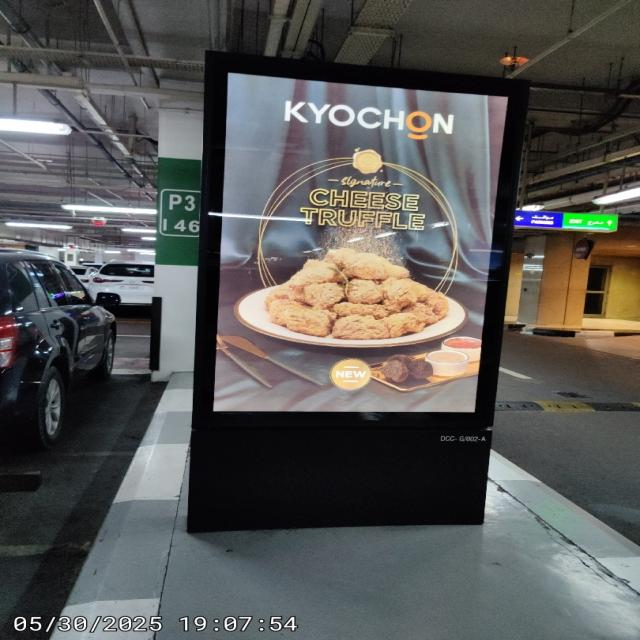mupi: (186, 48, 529, 535)
